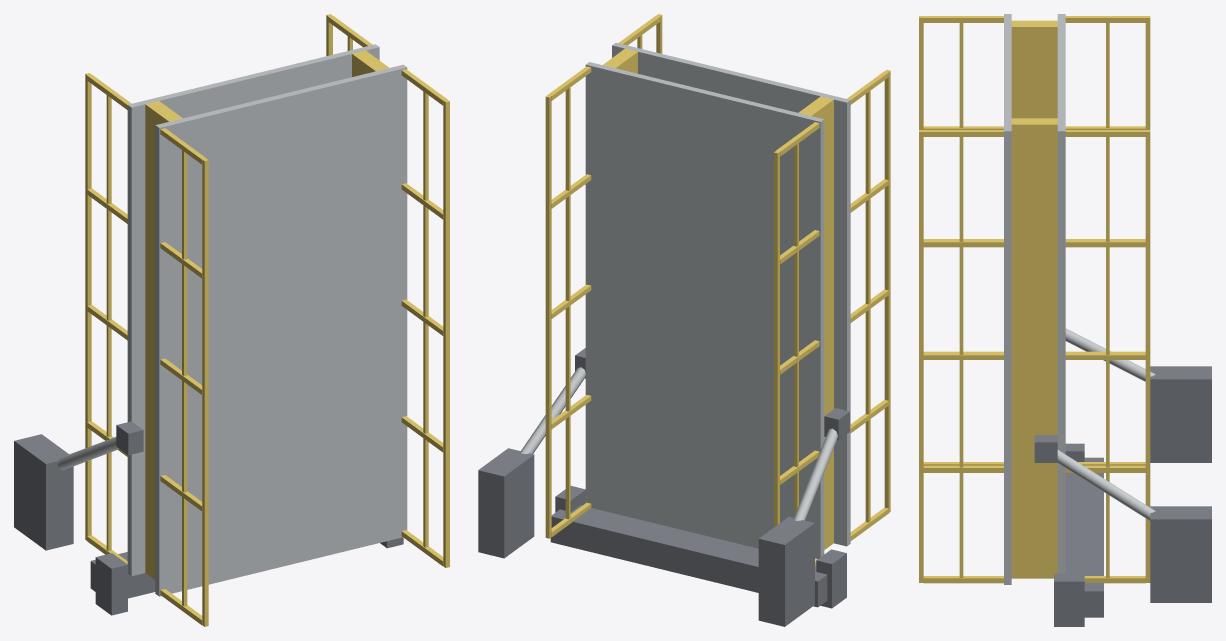
File: jackknife.glb
The picture shows the model from 3 angles, left to right: view 1: azimuth 30°, elevation 25°; view 2: azimuth 150°, elevation 25°; view 3: azimuth 270°, elevation 25°; orthographic projection. The views are drawn at different scales.
Visible parts, largest first — view 1: span_b, span_a, bridge, ram_l; view 2: span_a, span_b, bridge, ram_l, ram_r; view 3: span_b, span_a, bridge, ram_r, ram_l.
Boxes of the visible parts, left/top/right/bottom form: span_b: left=155, top=59, right=449, bottom=626; span_a: left=85, top=14, right=379, bottom=579; bridge: left=14, top=434, right=403, bottom=615; ram_l: left=58, top=437, right=118, bottom=469; span_a: left=545, top=57, right=849, bottom=566; span_b: left=612, top=14, right=890, bottom=549; bridge: left=478, top=448, right=846, bottom=626; ram_l: left=793, top=428, right=837, bottom=520; ram_r: left=520, top=367, right=585, bottom=453; span_b: left=919, top=14, right=1034, bottom=584; span_a: left=1034, top=14, right=1150, bottom=583; bridge: left=1054, top=366, right=1211, bottom=626; ram_r: left=1057, top=450, right=1155, bottom=520; ram_l: left=1065, top=328, right=1155, bottom=381.
Size of the model in its own units: 4.7 by 6.95 by 3.8.
